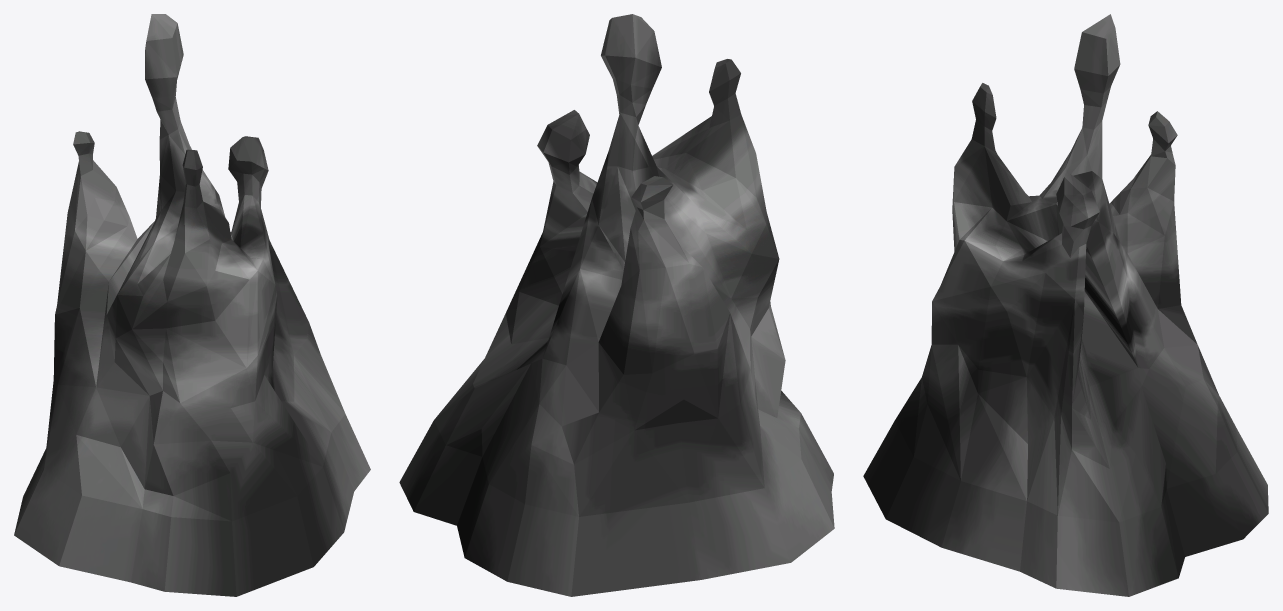
File: Mesh_Splash04.obj
The picture shows the model from 3 angles, left to right: view 1: azimuth 30°, elevation 25°; view 2: azimuth 150°, elevation 25°; view 3: azimuth 270°, elevation 25°; orthographic projection. The views are drawn at different scales.
Parts seen in each view (by area): view 1: Mesh_Splash04_M_Mesh_Liquid01; view 2: Mesh_Splash04_M_Mesh_Liquid01; view 3: Mesh_Splash04_M_Mesh_Liquid01.
Boxes of the visible parts, <box> form: Mesh_Splash04_M_Mesh_Liquid01: <box>14,14,370,596</box>; Mesh_Splash04_M_Mesh_Liquid01: <box>399,14,834,596</box>; Mesh_Splash04_M_Mesh_Liquid01: <box>863,14,1268,596</box>.
Size of the model in its own units: 2.24 by 2.94 by 2.24.
1 material, 1 textured.
